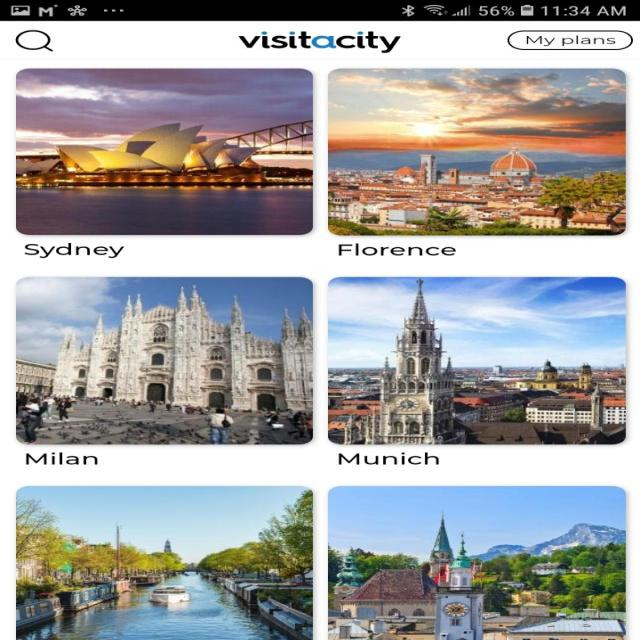Icon: (15, 30, 54, 52)
Image: (327, 276, 626, 444), (327, 68, 626, 236), (16, 276, 313, 444), (15, 68, 313, 235), (327, 486, 625, 640), (16, 486, 313, 640), (237, 31, 401, 53)
Text: (24, 243, 124, 258), (338, 243, 456, 255), (338, 452, 440, 464), (25, 452, 98, 464)
TextButton: (507, 30, 633, 50)
